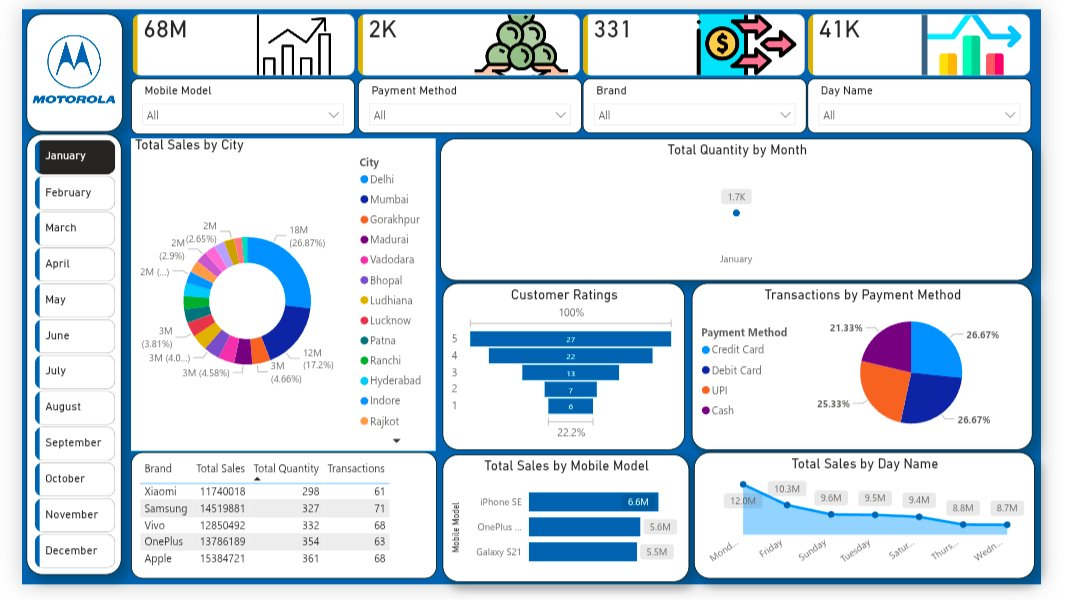

The dashboard page shown, as its layout file describes it:
{"tool":"powerbi","page":{"name":"Page 1","canvas":[1280,720],"ordinal":0},"visuals":[{"type":"shape","box":[5.5,6.9,120.8,148.2],"z":0},{"type":"image","box":[9.6,16.5,113.9,116.6],"z":1000},{"type":"shape","box":[6.9,156.4,119.4,554.4],"z":2000},{"type":"advancedSlicerVisual","fields":{"Values":["Sales_Data.Date.Variation.Date Hierarchy.Month"]},"box":[11,160.5,111.1,548.9],"z":3000},{"type":"cardVisual","fields":{"Data":["Sales_Data.Total Sales","Sales_Data.Total Quantity","Sales_Data.Transactions","Sales_Data.Average"]},"box":[134,5.6,1140.1,83.7],"z":4000},{"type":"lineChart","fields":{"Y":["Sales_Data.Total Quantity"],"Category":["Sales_Data.Date.Variation.Date Hierarchy.Month","Sales_Data.Date.Variation.Date Hierarchy.Day"]},"box":[525.9,160.8,744.8,178.7],"z":5000},{"type":"clusteredBarChart","fields":{"Category":["Sales_Data.Mobile Model"],"Y":["Sales_Data.Total Sales"]},"box":[528.3,558.5,310.1,160.5],"z":6000},{"type":"pieChart","fields":{"Category":["Sales_Data.Payment Method"],"Y":["Sales_Data.Transactions"]},"box":[842.5,344.4,428.1,209.9],"z":7000},{"type":"funnel","title":"Customer Ratings","fields":{"Category":["Sales_Data.Customer Ratings"],"Y":["CountNonNull(Sales_Data.Customer Ratings)"]},"box":[529.7,344.4,304.6,209.9],"z":8000},{"type":"areaChart","fields":{"Category":["Sales_Data.Day Name"],"Y":["Sales_Data.Total Sales"]},"box":[845.3,557.1,428.1,159.2],"z":9000},{"type":"tableEx","fields":{"Values":["Sales_Data.Brand","Sales_Data.Total Sales","Sales_Data.Total Quantity","Sales_Data.Transactions"]},"box":[135.8,557.1,384.2,159.2],"z":10000},{"type":"slicer","fields":{"Values":["Sales_Data.Mobile Model"]},"box":[136.2,87.1,281.4,70.3],"z":11000},{"type":"slicer","fields":{"Values":["Sales_Data.Payment Method"]},"box":[421,87.1,281.4,69.2],"z":12000},{"type":"slicer","fields":{"Values":["Sales_Data.Brand"]},"box":[703.5,87.1,281.4,69.2],"z":13000},{"type":"slicer","fields":{"Values":["Sales_Data.Day Name"]},"box":[988.2,87.1,281.4,69.2],"z":14000},{"type":"donutChart","fields":{"Category":["Sales_Data.City"],"Y":["Sales_Data.Total Sales"]},"box":[136.7,161.1,383.1,392.9],"z":14001}]}

Visuals, with their boxes in screenshot pixels (x1, y1, x2, y2), scaled from the page's 1280x720 canvas onto the 1080x600 screenshot:
shape: detection(5, 6, 107, 129)
image: detection(8, 14, 104, 111)
shape: detection(6, 130, 107, 592)
advancedSlicerVisual - Sales_Data.Date.Variation.Date Hierarchy.Month: detection(9, 134, 103, 591)
cardVisual - Sales_Data.Total Sales x Sales_Data.Total Quantity: detection(113, 5, 1075, 74)
lineChart - Sales_Data.Total Quantity x Sales_Data.Date.Variation.Date Hierarchy.Month: detection(444, 134, 1072, 283)
clusteredBarChart - Sales_Data.Mobile Model x Sales_Data.Total Sales: detection(446, 465, 707, 599)
pieChart - Sales_Data.Payment Method x Sales_Data.Transactions: detection(711, 287, 1072, 462)
"Customer Ratings" funnel: detection(447, 287, 704, 462)
areaChart - Sales_Data.Day Name x Sales_Data.Total Sales: detection(713, 464, 1074, 597)
tableEx - Sales_Data.Brand x Sales_Data.Total Sales: detection(115, 464, 439, 597)
slicer - Sales_Data.Mobile Model: detection(115, 73, 352, 131)
slicer - Sales_Data.Payment Method: detection(355, 73, 593, 130)
slicer - Sales_Data.Brand: detection(594, 73, 831, 130)
slicer - Sales_Data.Day Name: detection(834, 73, 1071, 130)
donutChart - Sales_Data.City x Sales_Data.Total Sales: detection(115, 134, 439, 462)
